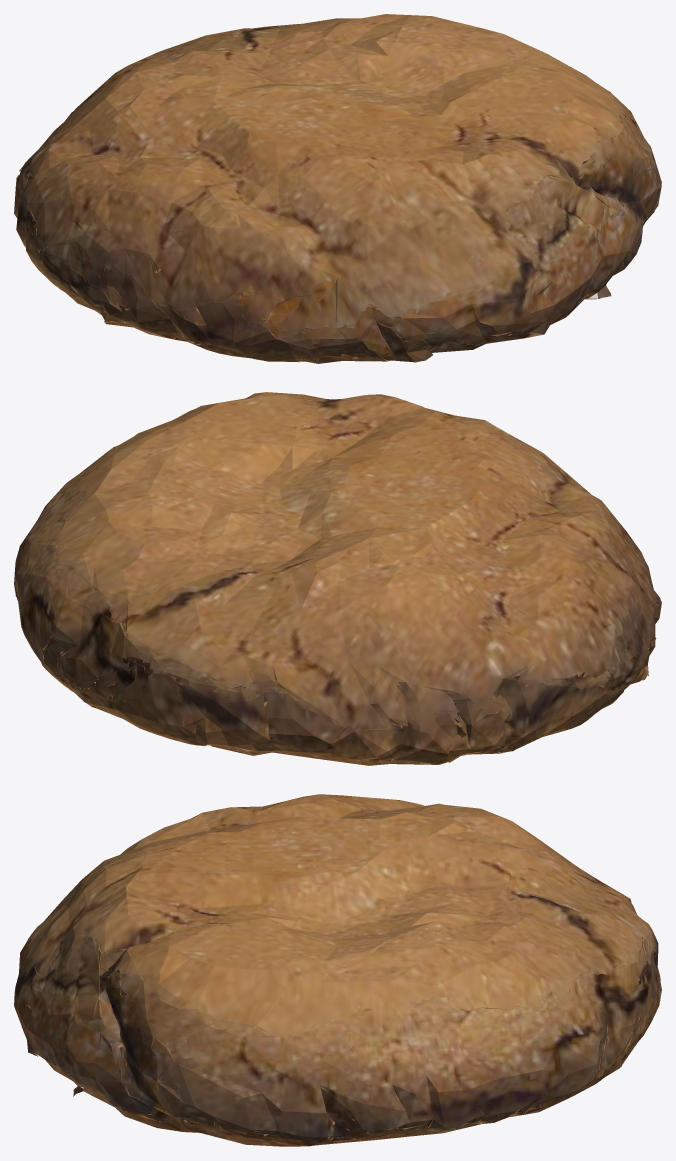
File: brown-butter-ginger-cookie.gltf
3 views of the same model, one above another, from view 1: azimuth 30°, elevation 25°; view 2: azimuth 150°, elevation 25°; view 3: azimuth 270°, elevation 25° (orthographic). The views are drawn at different scales.
Parts seen in each view (by area): view 1: model_New Qlone_20221216_184034876; view 2: model_New Qlone_20221216_184034876; view 3: model_New Qlone_20221216_184034876.
Boxes of the visible parts, x1,y1,x2,y2 form: model_New Qlone_20221216_184034876: (14, 14, 661, 363); model_New Qlone_20221216_184034876: (14, 392, 661, 765); model_New Qlone_20221216_184034876: (14, 794, 661, 1146).
Bounding box in the file's own units: 7 × 1.81 × 6.86.
Materials: 1 (1 with a texture image).
